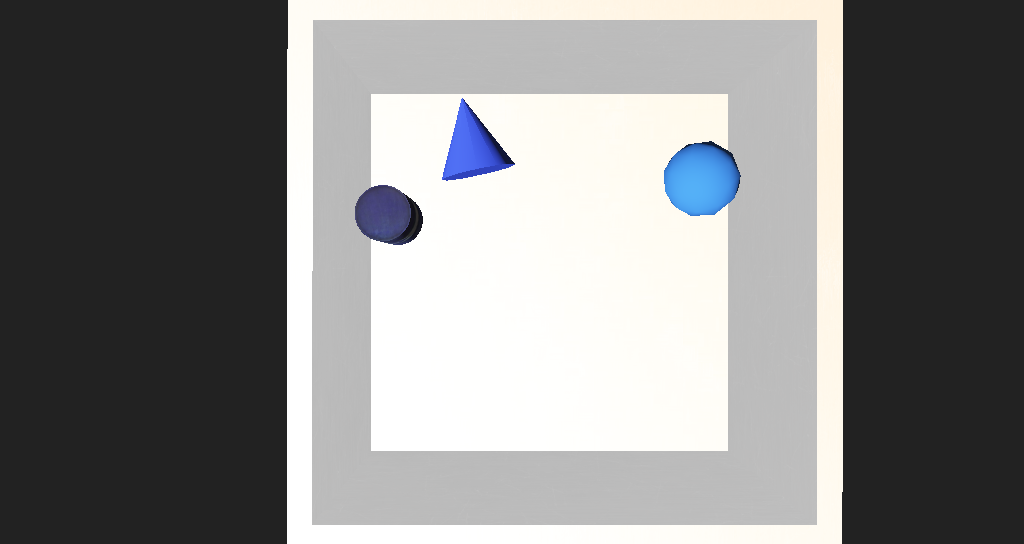cone: (340, 215, 401, 253)
cylinder: (401, 155, 475, 217)
sphere: (603, 193, 664, 236)
